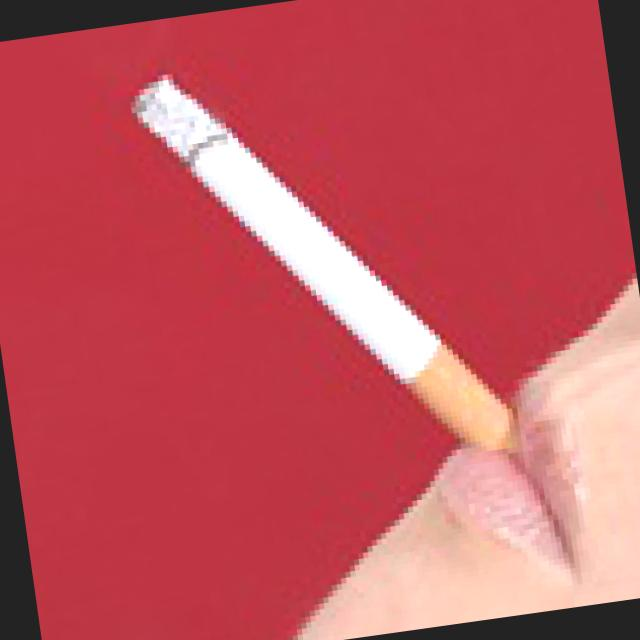smoke: (121, 24, 497, 482)
